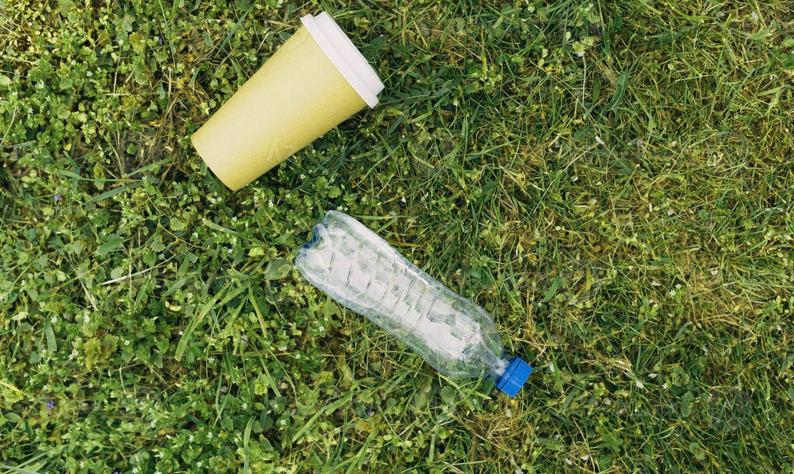Plastic: (294, 202, 536, 399)
